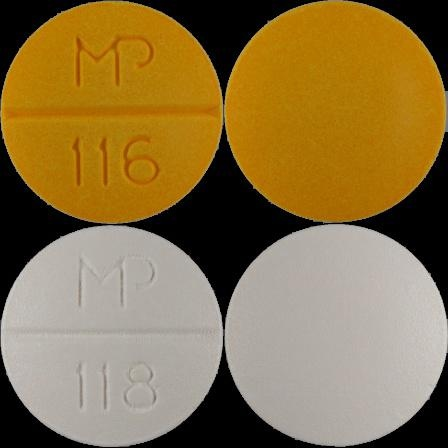53489-479: (0, 0, 224, 224)
